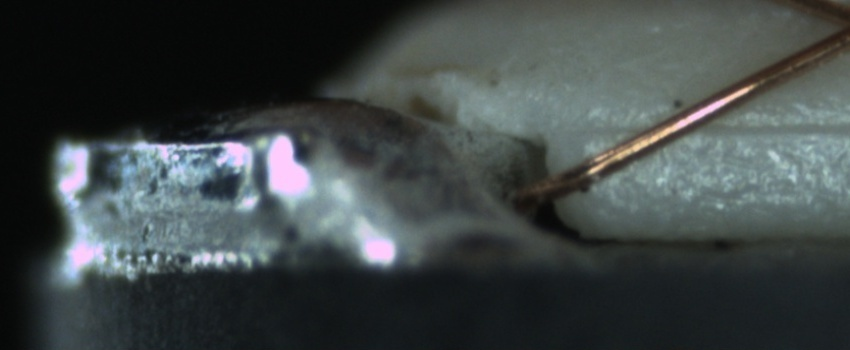DL: (601, 95, 850, 158)
